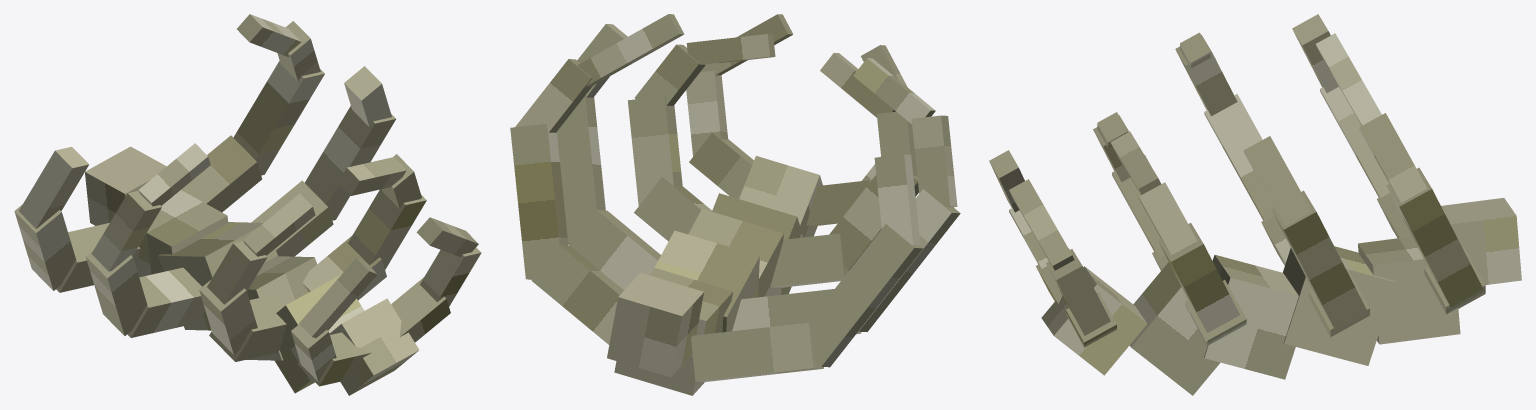
Rendered from animal_skull_3.obj.
3 renders of one model, left to right at view 1: azimuth 30°, elevation 25°; view 2: azimuth 150°, elevation 25°; view 3: azimuth 270°, elevation 25°, orthographic. The views are drawn at different scales.
Visible parts, largest first — view 1: cube; view 2: cube; view 3: cube.
Boxes of the visible parts, <box> form: cube: <box>14,14,481,395</box>; cube: <box>510,14,960,395</box>; cube: <box>989,14,1521,395</box>.
Bounding box in the file's own units: 0.7442 × 0.6509 × 0.8859.
